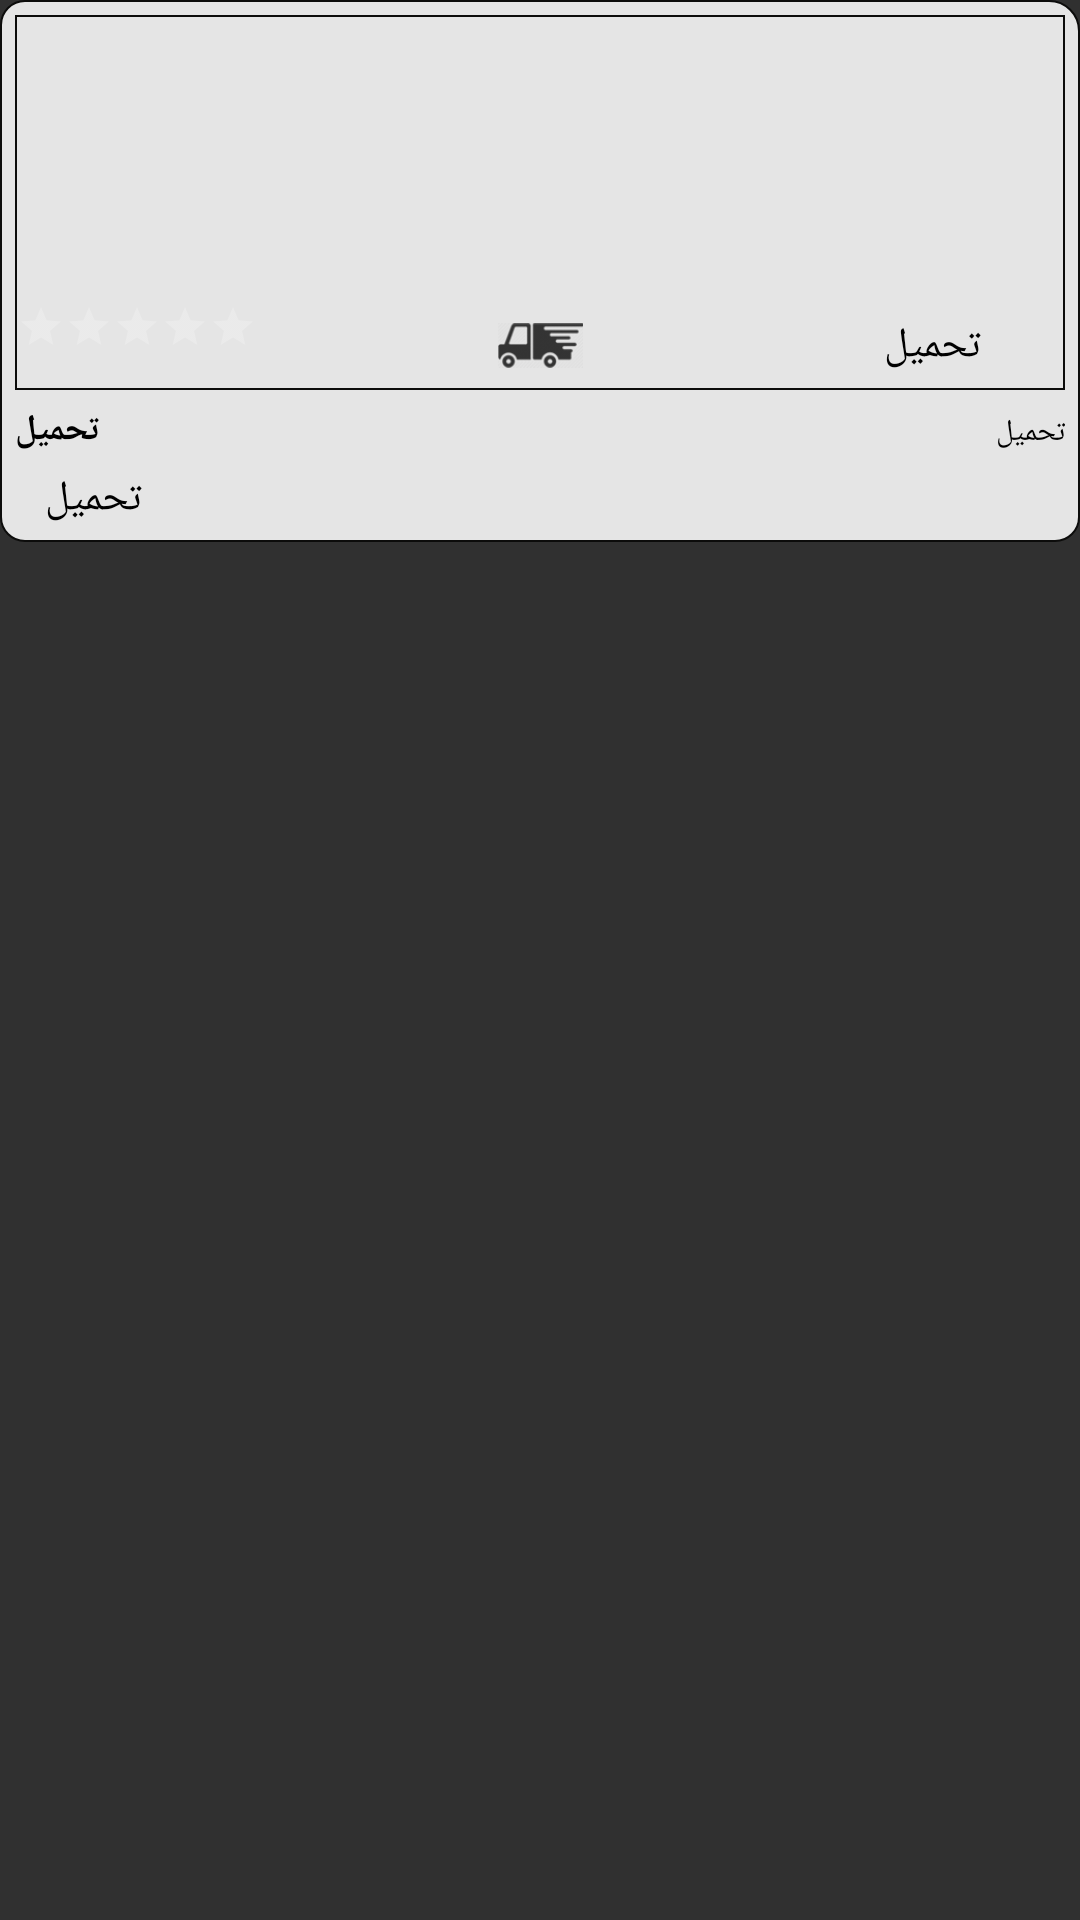

Where to tap for icons on this 1080px x 1920px app screen, as (x=x, y=y):
deliverable: (x=540, y=345)
